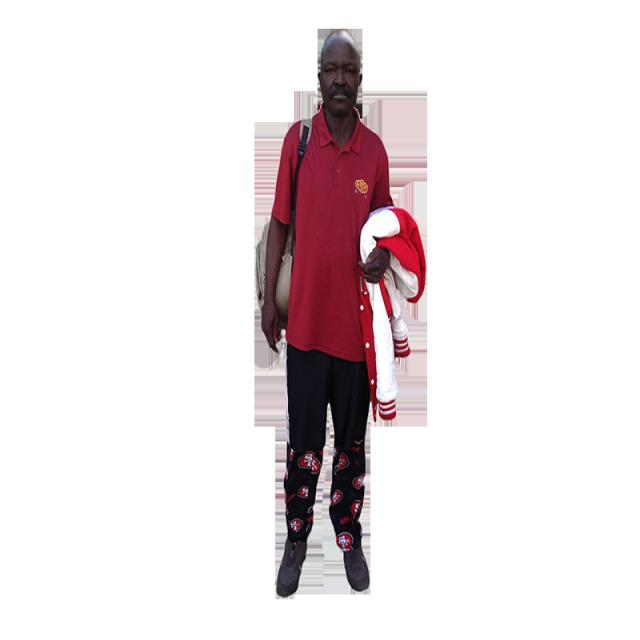jovem: (268, 34, 395, 595)
